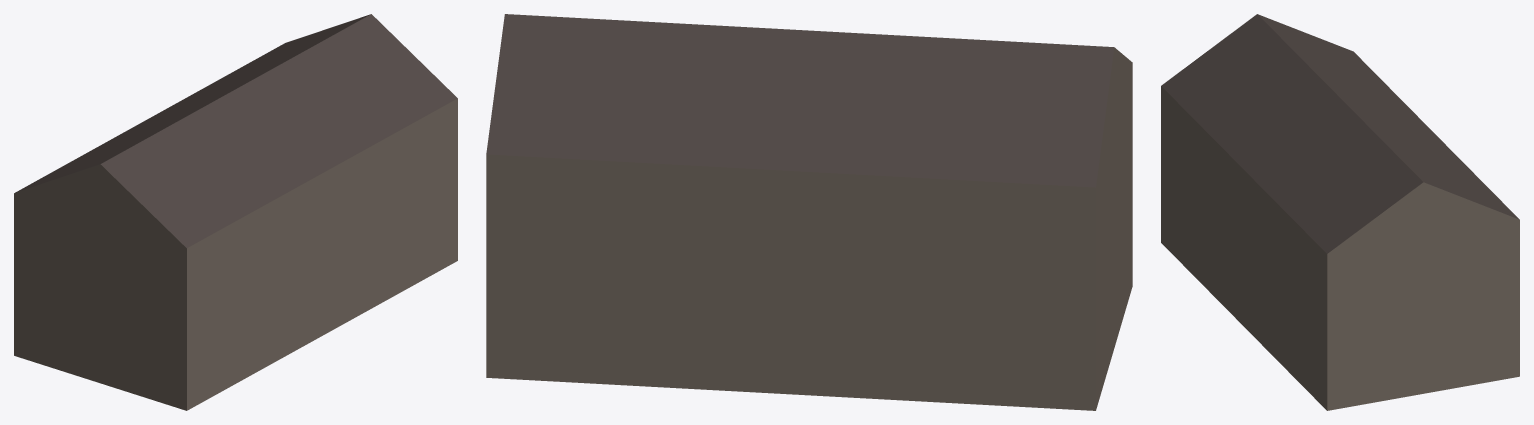
3 views of the same model, side by side, from view 1: azimuth 30°, elevation 25°; view 2: azimuth 150°, elevation 25°; view 3: azimuth 270°, elevation 25° (orthographic). The views are drawn at different scales.
Visible parts, largest first — view 1: HP-w859086185; view 2: HP-w859086185; view 3: HP-w859086185.
Boxes of the visible parts, bbox=[...] form: HP-w859086185: bbox=[14, 14, 457, 410]; HP-w859086185: bbox=[486, 14, 1132, 410]; HP-w859086185: bbox=[1161, 14, 1519, 410].
Size of the model in its own units: 24.93 by 12.14 by 18.66.
